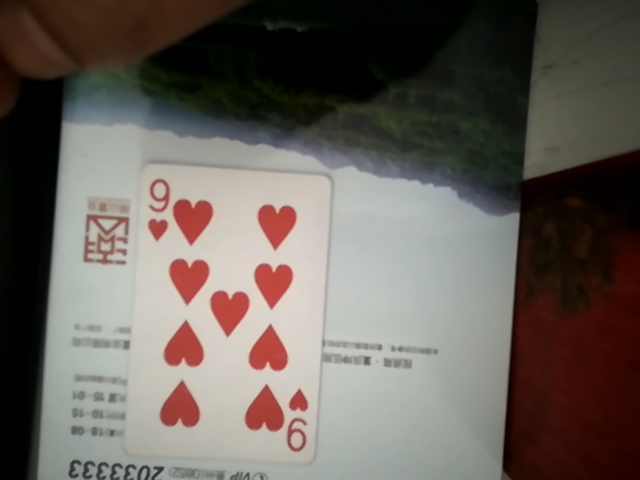hx 9: (117, 161, 322, 468)
